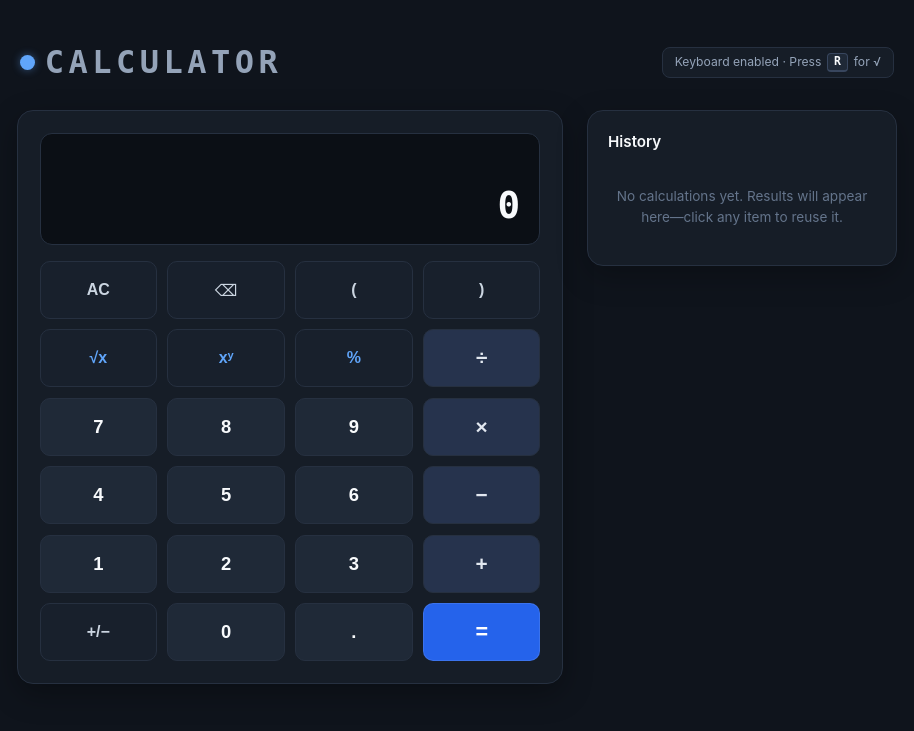
Test: App Calculator UI & Integration › displays error banner on backend error and allows dismissing it
Click the button "8" at {"x": 226, "y": 427}, box 167,398 -> 285,456
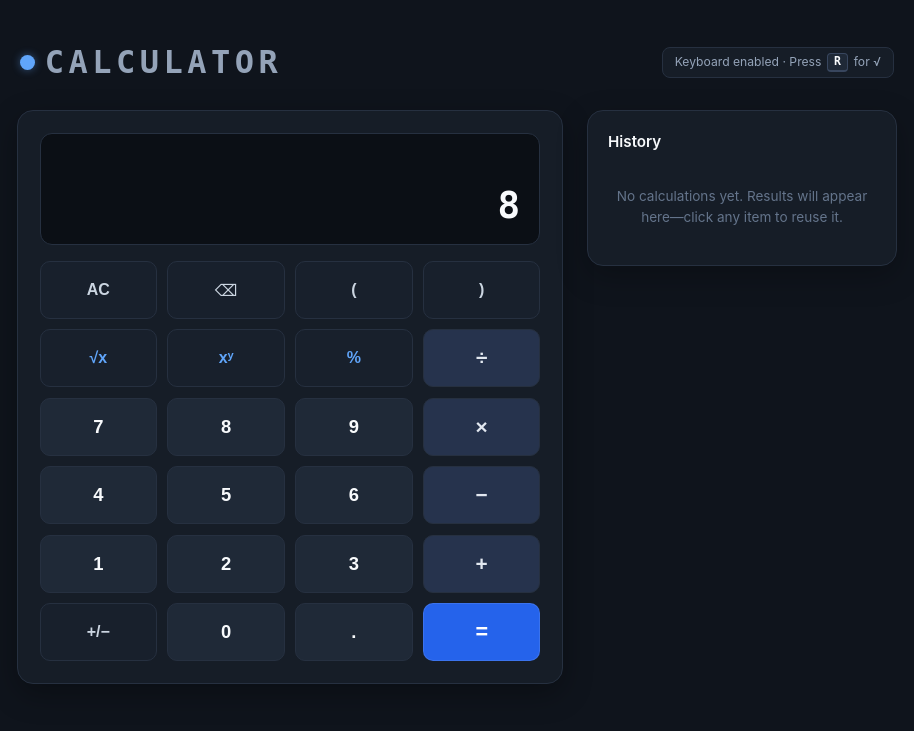
Click the button named "Divide" at {"x": 482, "y": 358}, box 423,329 -> 540,387
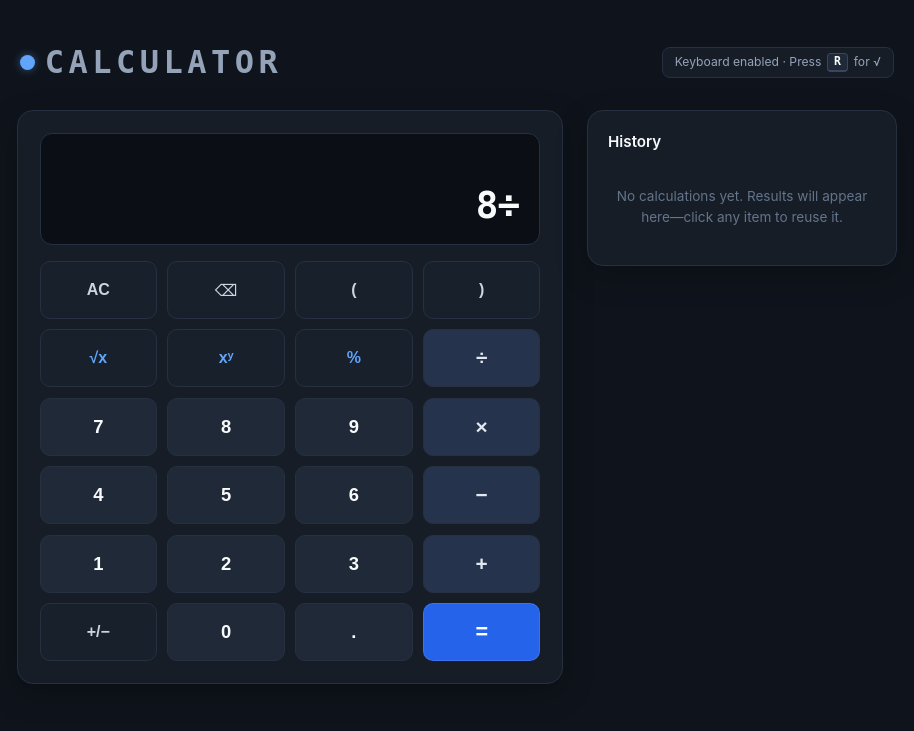
Click the button "0" at {"x": 226, "y": 632}, box 167,603 -> 285,661
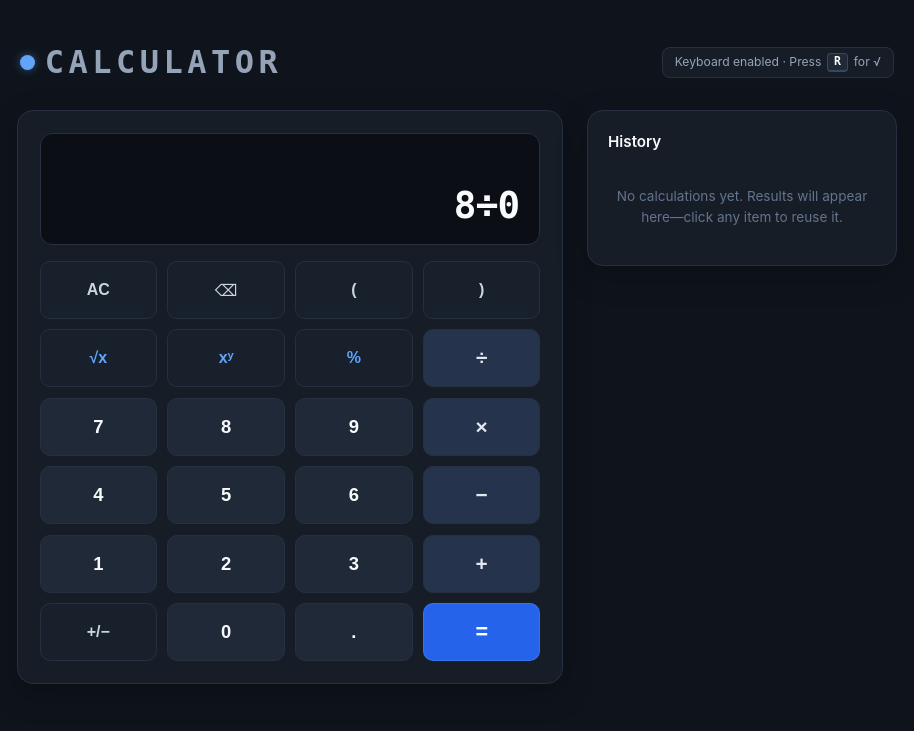
Click the button named "Equals" at {"x": 482, "y": 632}, box 423,603 -> 540,661
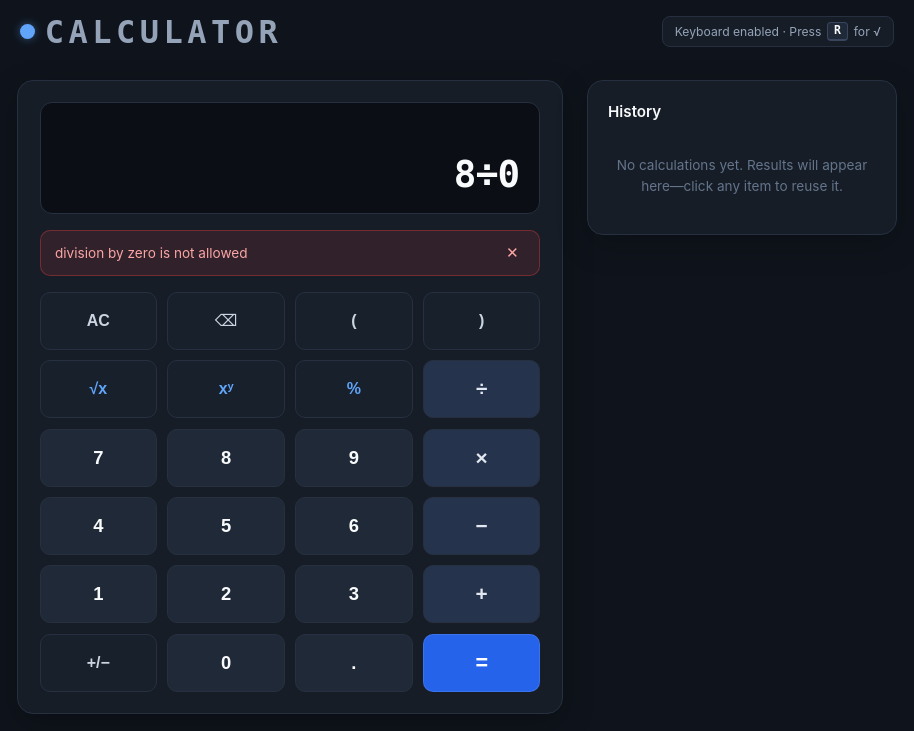
Expected: the message "division by zero is not allowed ✕" is shown, 40,230 -> 540,276
Click the button named "Dismiss error" at {"x": 512, "y": 253}, box 500,242 -> 525,264
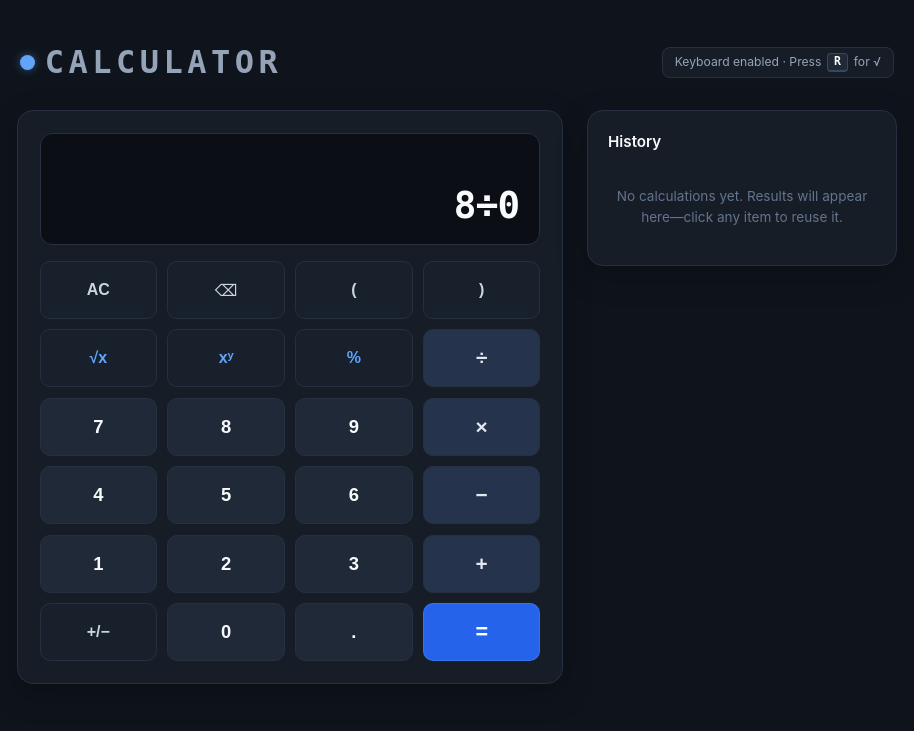
Expected: the message "division by zero is not allowed ✕" is gone
